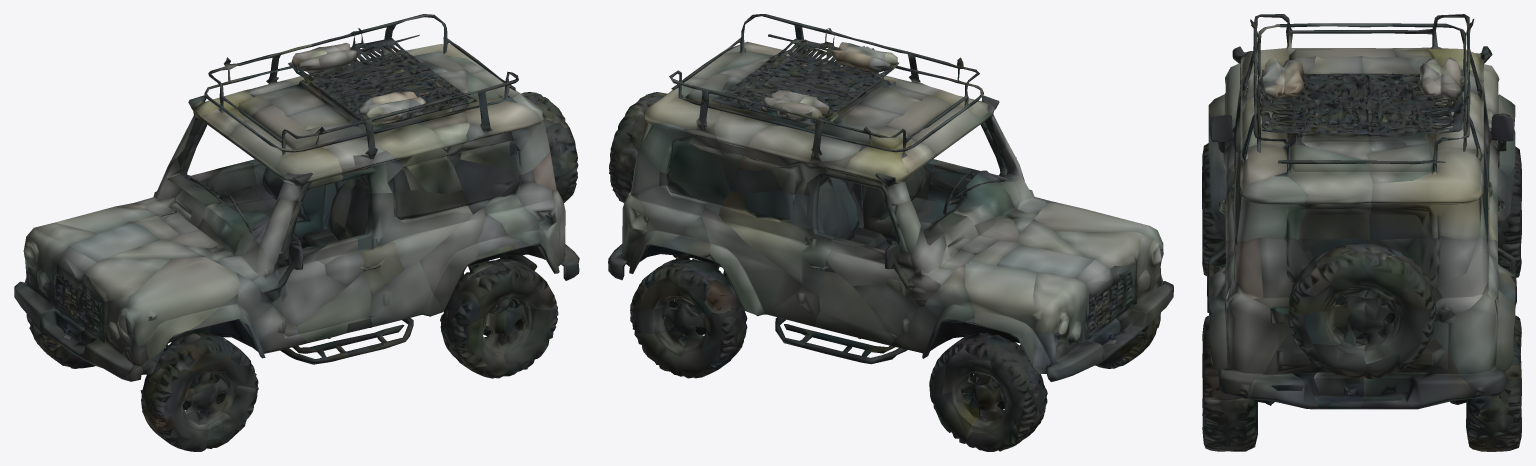
Rendered from car_suv_light_q1.glb.
3 views of the same model, side by side, from view 1: azimuth 30°, elevation 25°; view 2: azimuth 150°, elevation 25°; view 3: azimuth 270°, elevation 25° (orthographic). The views are drawn at different scales.
Bounding box in the file's own units: 3.29 × 1.8 × 1.58.
Materials: 1 (1 with a texture image).
